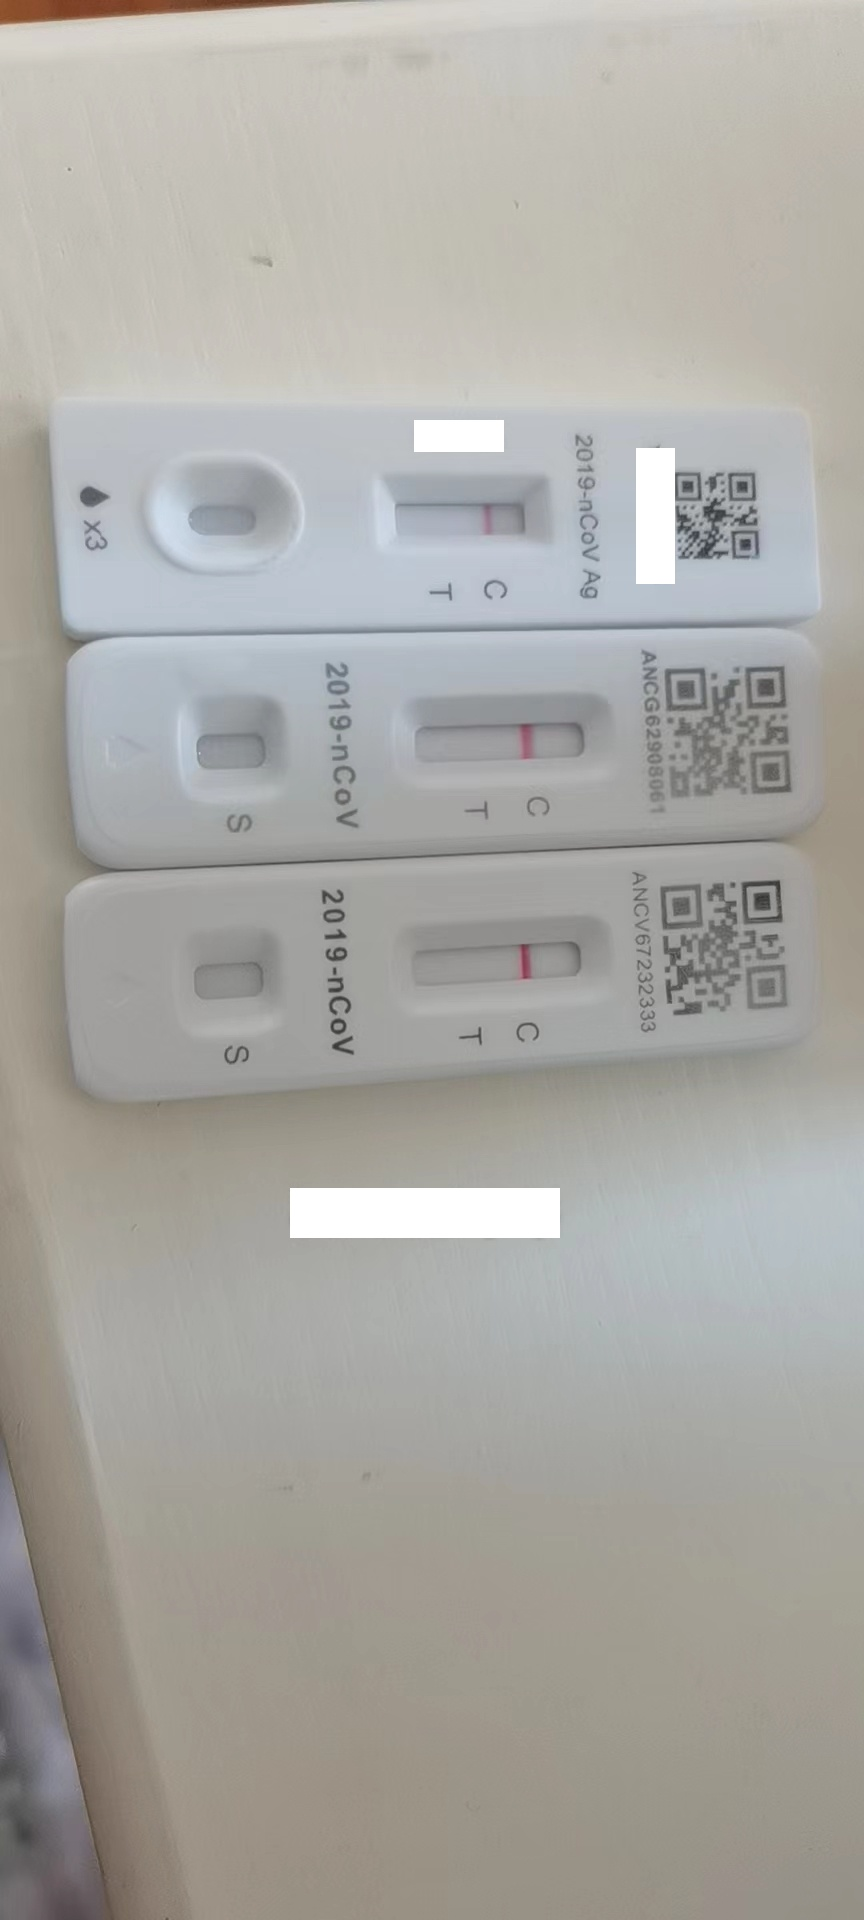negative: (392, 691, 611, 784), (390, 916, 608, 1009), (374, 469, 558, 553)
